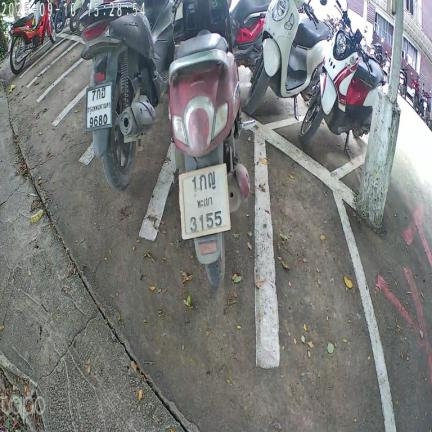0: (103, 114, 108, 124)
1: (189, 176, 197, 192), (198, 214, 205, 231)
3: (188, 216, 198, 233)
5: (206, 212, 214, 230), (214, 211, 223, 226)
6: (94, 116, 98, 125)
7: (91, 89, 95, 101)
8: (98, 115, 103, 125)
9: (88, 117, 93, 127)
A01: (198, 175, 207, 190), (96, 88, 101, 100)
A13: (208, 171, 217, 190)
A44: (101, 87, 106, 98)
BKK: (87, 101, 111, 116)
PYO: (194, 196, 214, 208)
